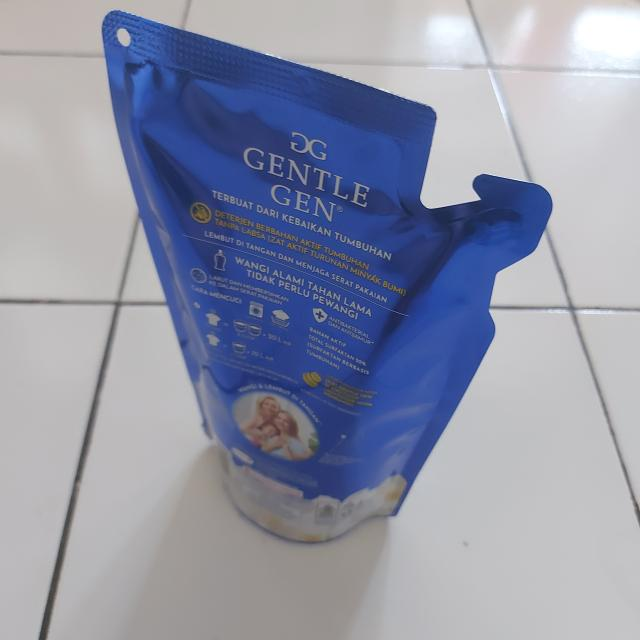Anorganik: (103, 14, 552, 550)
